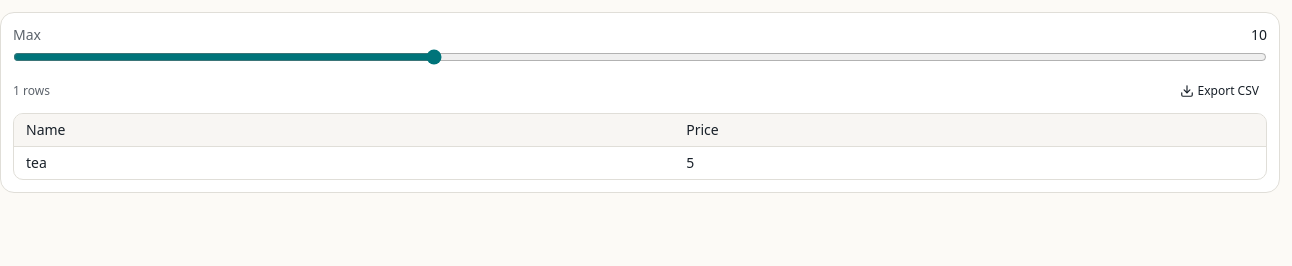
Test: UiBlockHost › filters a data table with where and a bound control
Expected: the text "tea" is shown, [14, 146, 674, 179]
Expected: the text "wine" is not shown
Set the slider to "30" at (1259, 57), box [13, 49, 1267, 65]
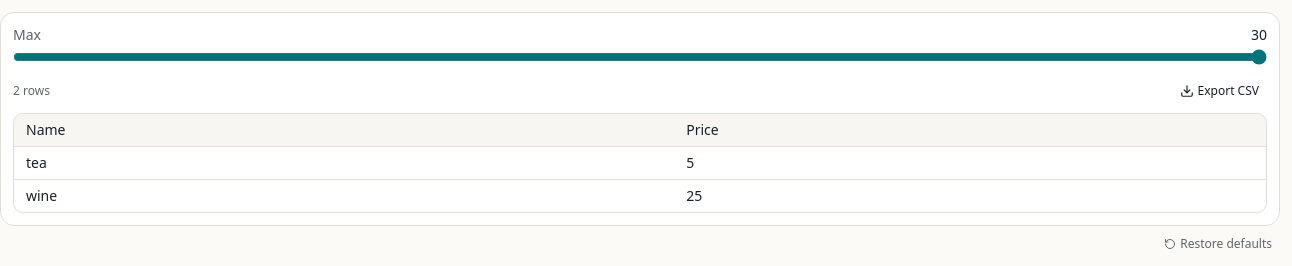
Expected: the text "wine" is shown, [14, 180, 674, 212]
